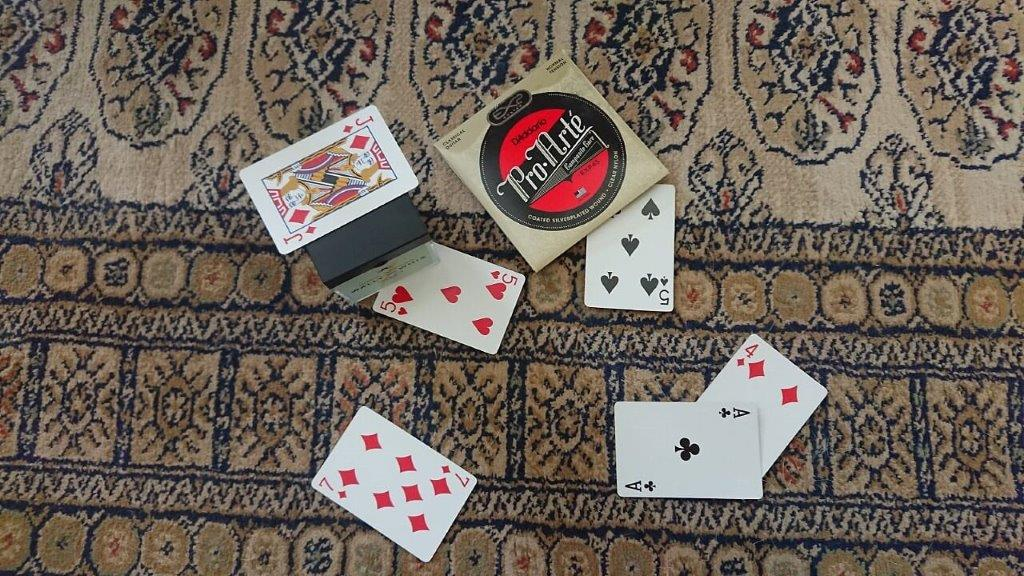4D: (734, 340, 761, 370)
7D: (314, 474, 351, 501)
JD: (340, 112, 375, 136)
